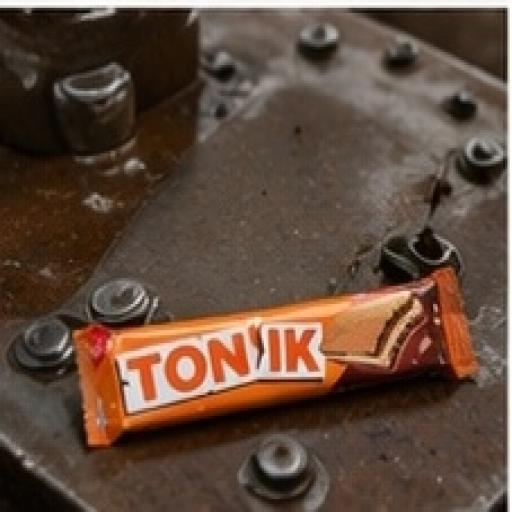tonik: (35, 178, 490, 471)
